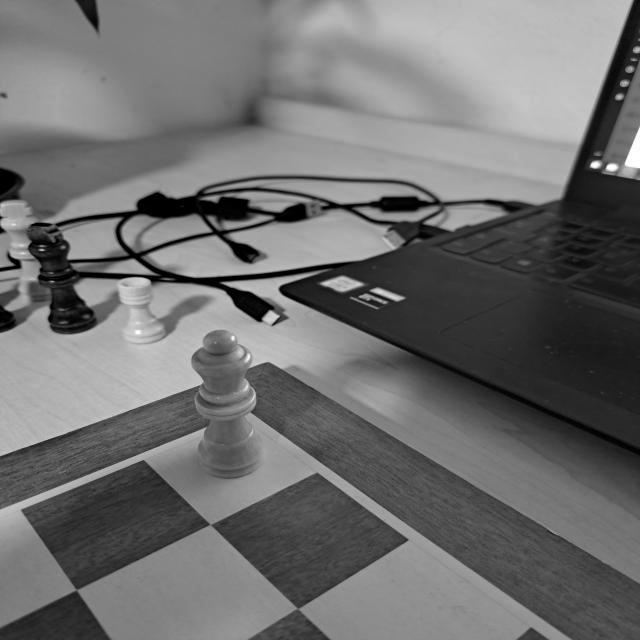chess-table-corners: (186, 394, 300, 451)
